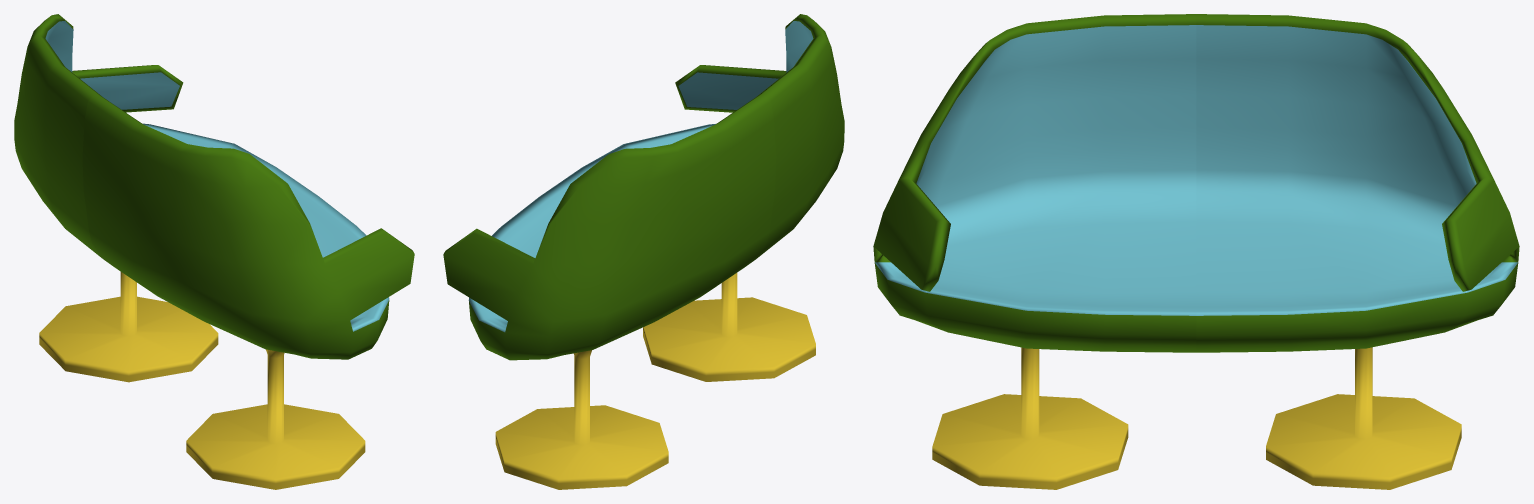
Rendered from Couch.fbx.
3 views of the same model, side by side, from view 1: azimuth 30°, elevation 25°; view 2: azimuth 150°, elevation 25°; view 3: azimuth 270°, elevation 25° (orthographic). The views are drawn at different scales.
Parts seen in each view (by area): view 1: Couch; view 2: Couch; view 3: Couch.
Part boxes in pixels (left/top/right/bottom): Couch: left=14, top=14, right=414, bottom=489; Couch: left=443, top=14, right=844, bottom=489; Couch: left=873, top=14, right=1519, bottom=489.
Size of the model in its own units: 1.6 by 2.14 by 3.34.
